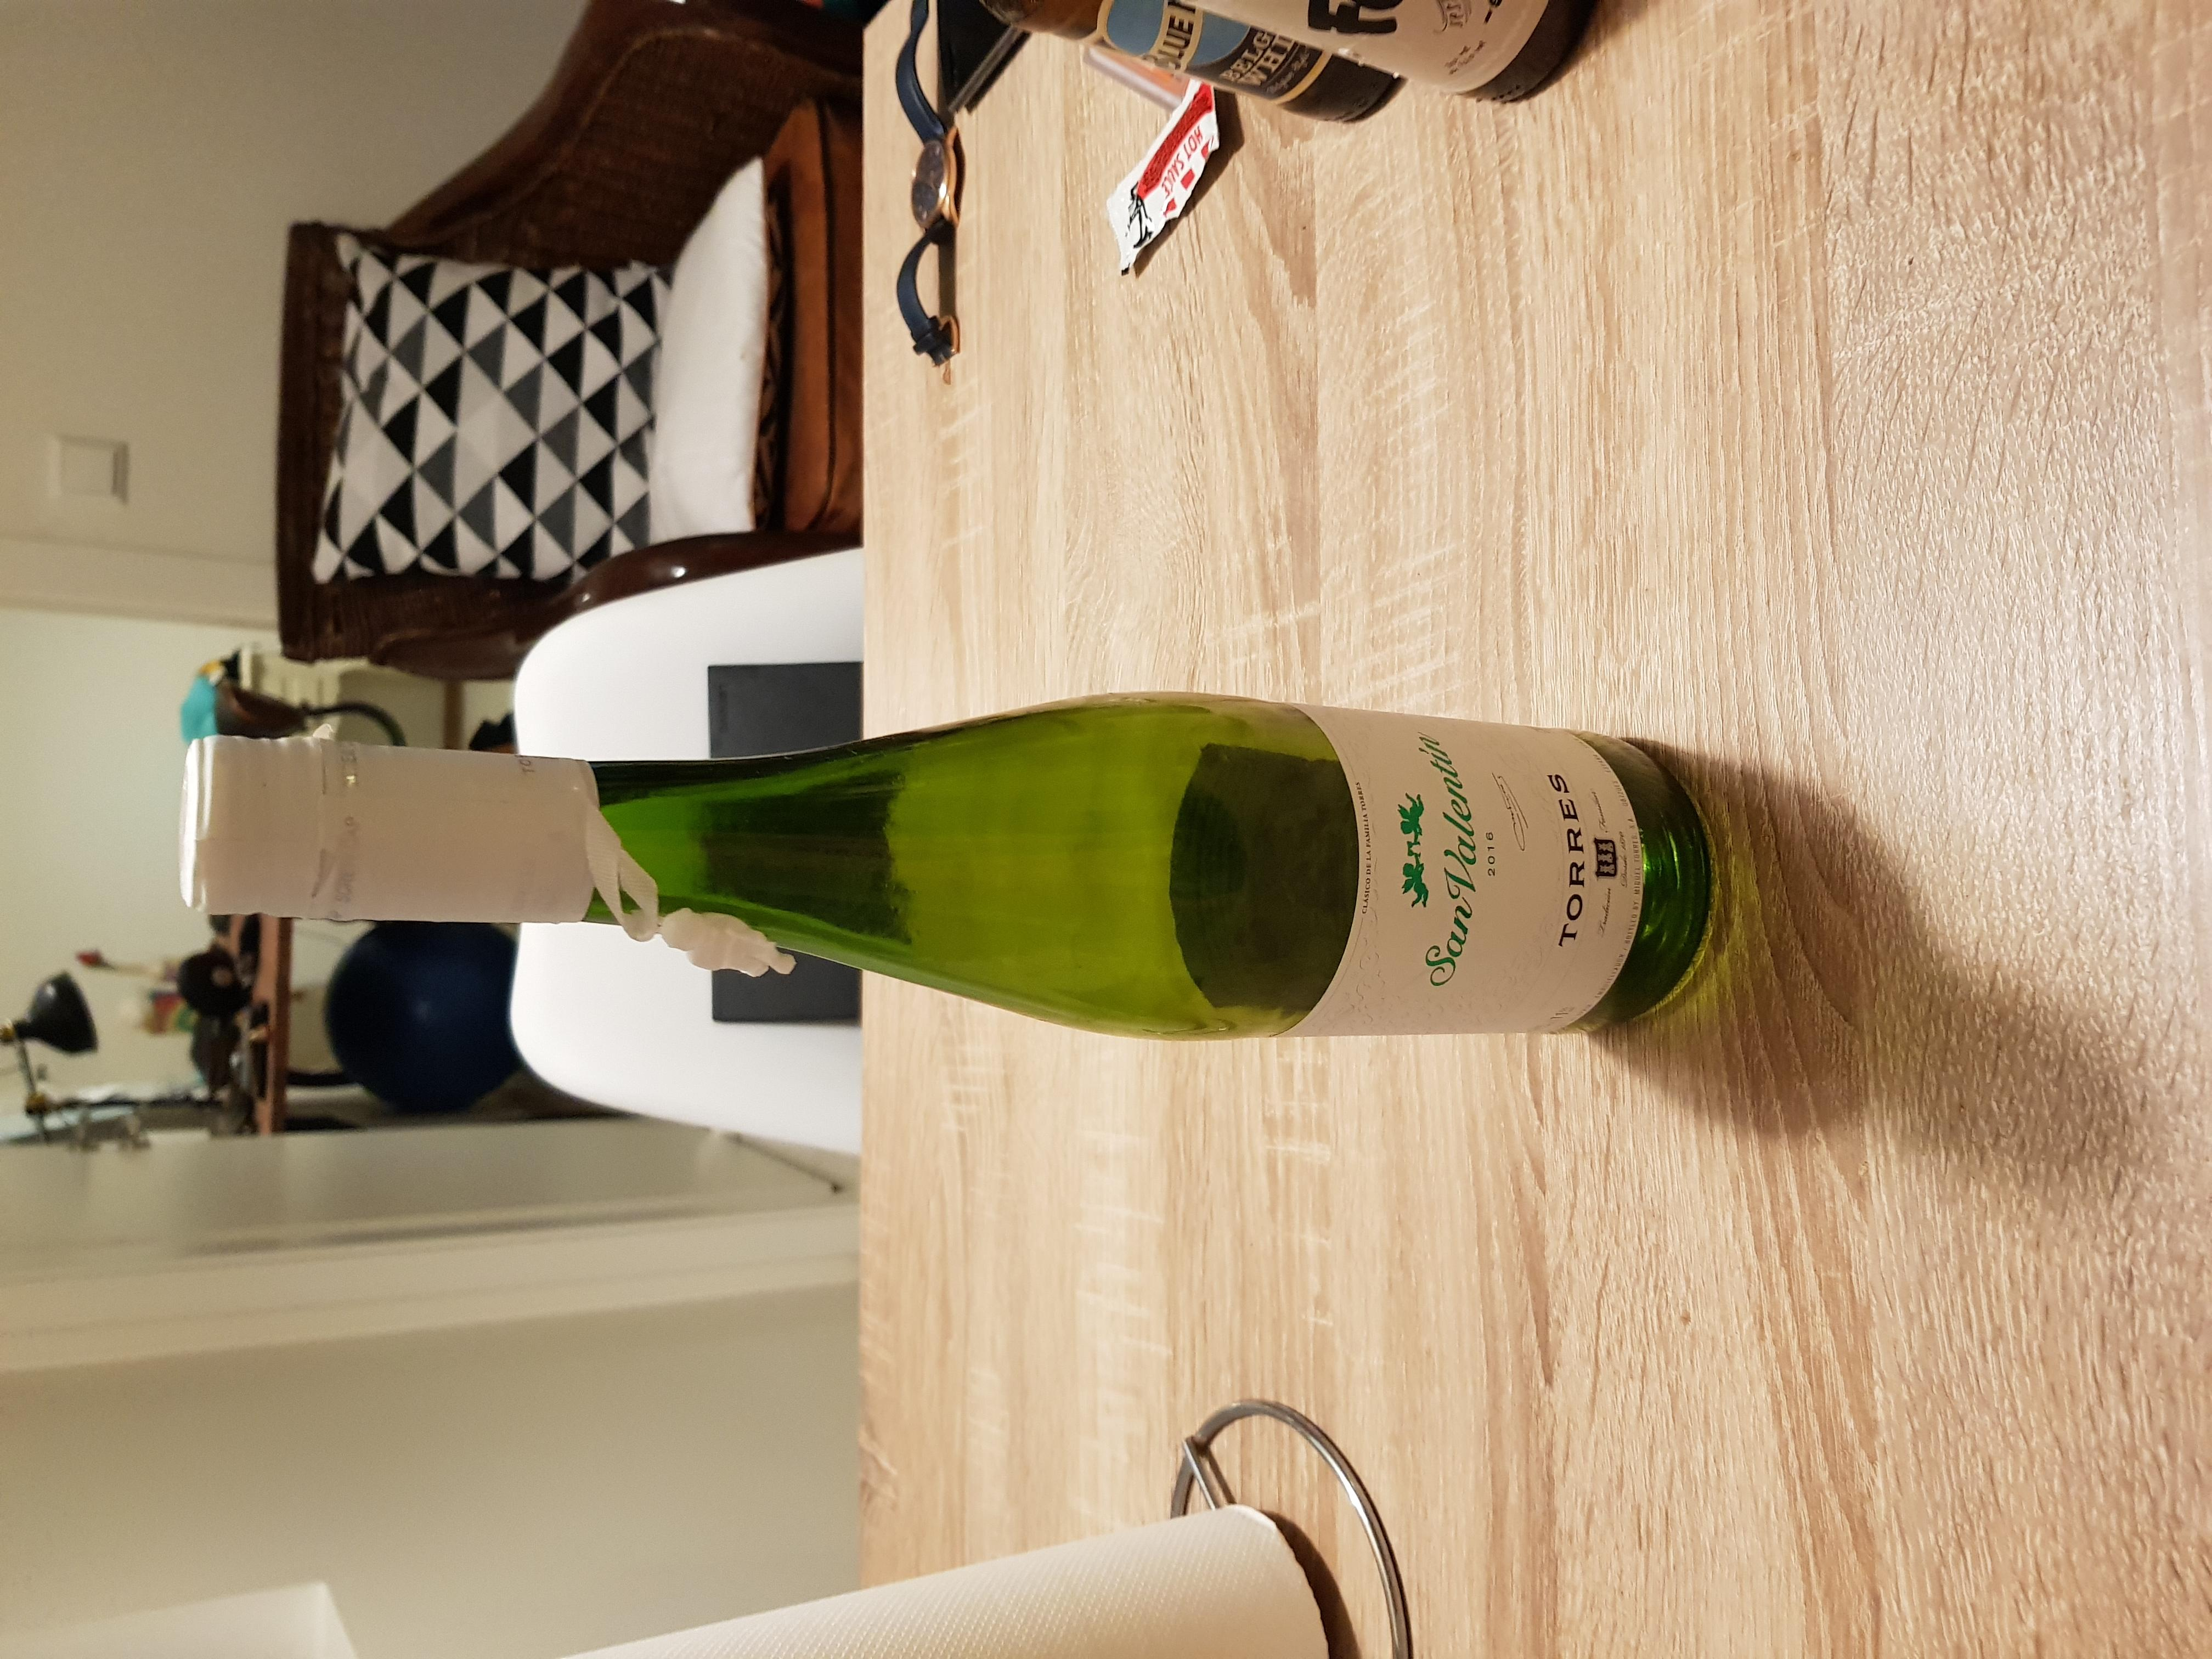Bottle: (169, 688, 1712, 1028)
